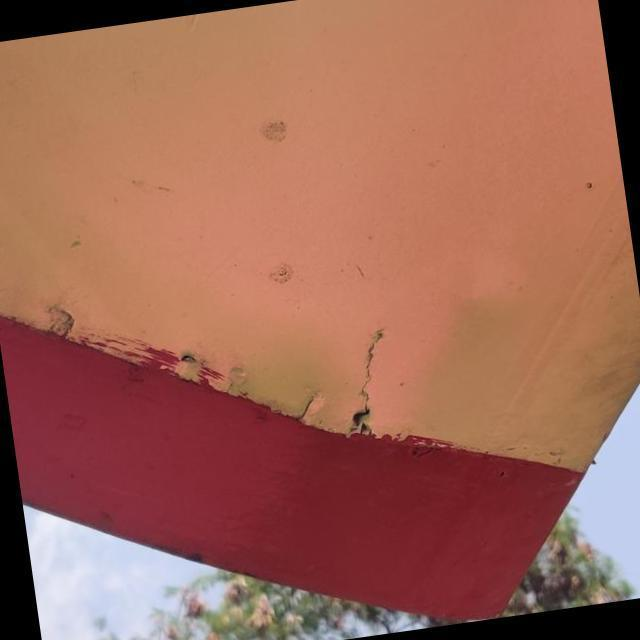Rupture: (330, 319, 408, 446), (284, 382, 329, 429)
